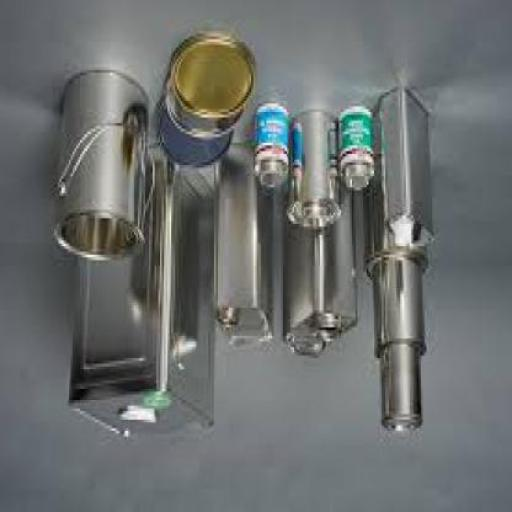metal: (68, 143, 216, 439), (54, 70, 150, 264), (155, 30, 259, 168), (286, 176, 360, 356), (216, 143, 275, 352), (380, 92, 438, 246), (366, 160, 430, 278), (288, 112, 345, 233), (376, 260, 428, 362), (382, 350, 424, 434), (258, 104, 290, 190), (344, 107, 376, 190)
